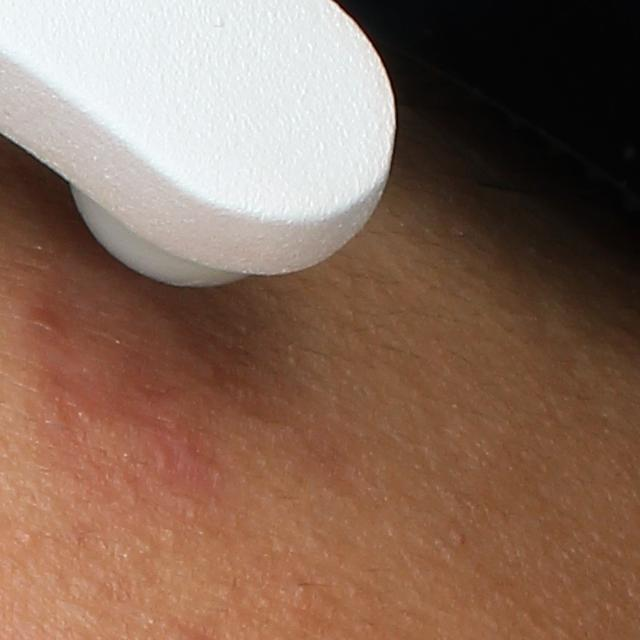comedo: (16, 525, 38, 550)
